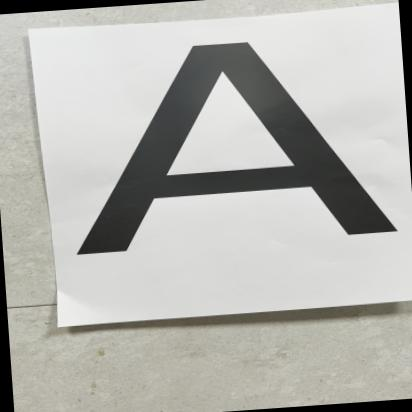seat: (54, 18, 412, 297)
